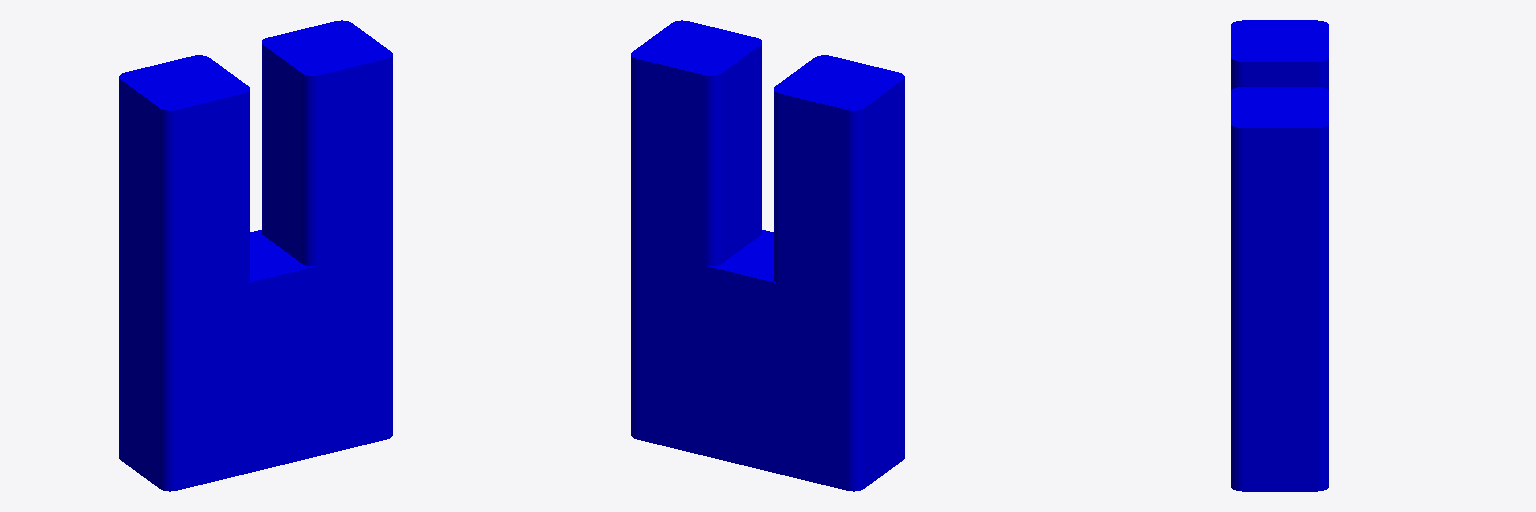
The robot description file, URDF, robot "board1_block1":
<?xml version="1.0"?>
<robot name="board1_block1">
    <link name="board1_block1">
        <visual>
            <origin xyz="0 0 0 " rpy=" 0 0 0"/>
            <geometry>
                <mesh filename="../meshes/SIMO_Board1_Block1.stl" scale="0.001 0.001 0.001"/>
            </geometry>
            <material name="red">
                <color rgba="0.0 0.0 1.0 1.0"/>
            </material>
        </visual>
        <collision>
            <origin xyz="0 0 0" rpy="0 0 0"/>
            <geometry>
                <mesh filename="../meshes/SIMO_Board1_Block1.stl" scale="0.001 0.001 0.001"/>
            </geometry>
        </collision>
    </link>
</robot>

--- Facts derived from the render (not from the file) ---
The picture shows the robot from 3 angles, left to right: view 1: azimuth 30°, elevation 25°; view 2: azimuth 150°, elevation 25°; view 3: azimuth 270°, elevation 25°; orthographic projection.
Robot: board1_block1 — 1 links, 0 joints (none); root link board1_block1; default pose: all joints at 0.
Links seen in each view (by area): view 1: board1_block1; view 2: board1_block1; view 3: board1_block1.
Boxes of the visible links, x1,y1,x2,y2 form: board1_block1: [119, 20, 392, 491]; board1_block1: [631, 20, 904, 491]; board1_block1: [1231, 20, 1328, 491].
Bounding box of the posed robot: 0.0636 × 0.0245 × 0.1 m (x, y, z).
1 mesh visuals loaded from 1 distinct referenced files (1 ASCII STL).